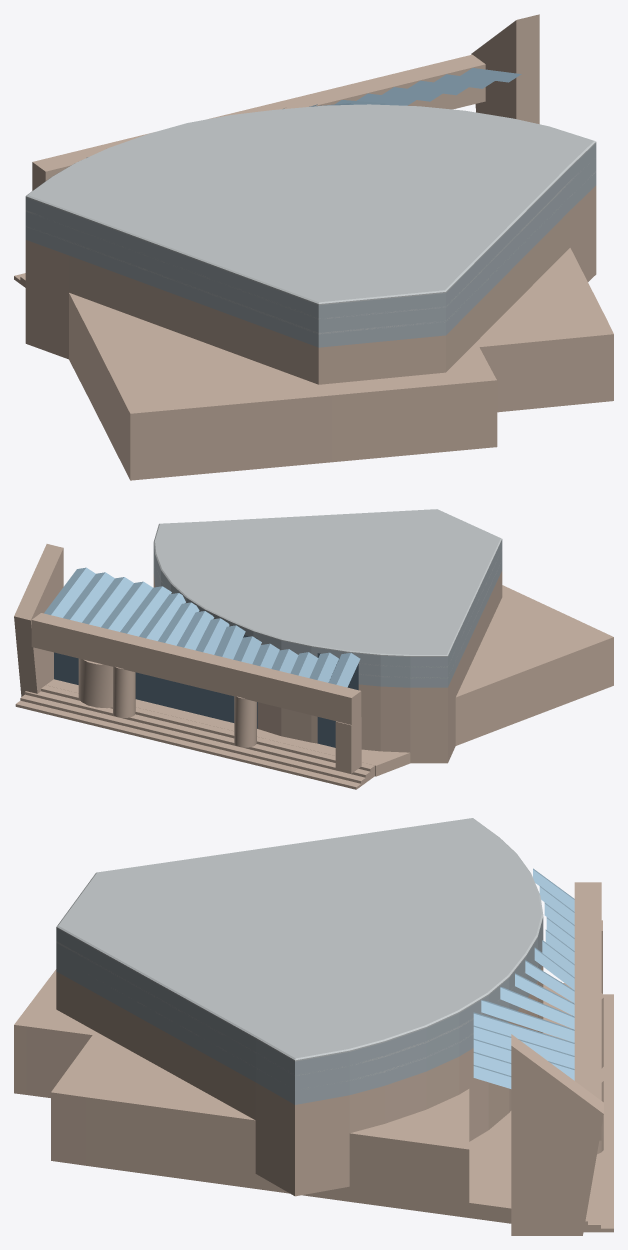
File: mexico-city-auditorio-nacional.glb
3 renders of one model, top to bottom at view 1: azimuth 30°, elevation 25°; view 2: azimuth 150°, elevation 25°; view 3: azimuth 270°, elevation 25°, orthographic. The views are drawn at different scales.
Parts seen in each view (by area): view 1: Auditorio Nacional; view 2: Auditorio Nacional; view 3: Auditorio Nacional.
Part boxes in pixels (x1=…): Auditorio Nacional: x1=14, y1=14, x2=613, y2=480; Auditorio Nacional: x1=14, y1=509, x2=613, y2=789; Auditorio Nacional: x1=14, y1=818, x2=613, y2=1235.
Size of the model in its own units: 168 by 50 by 143.
